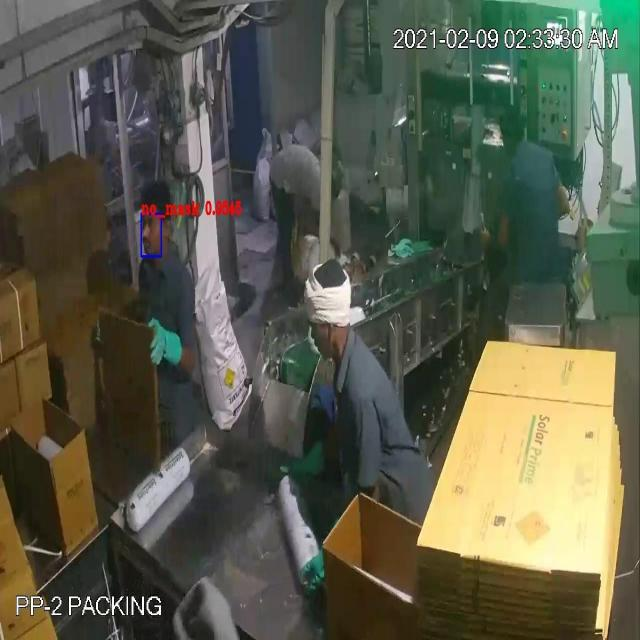Gloves: (42, 72, 306, 459)
